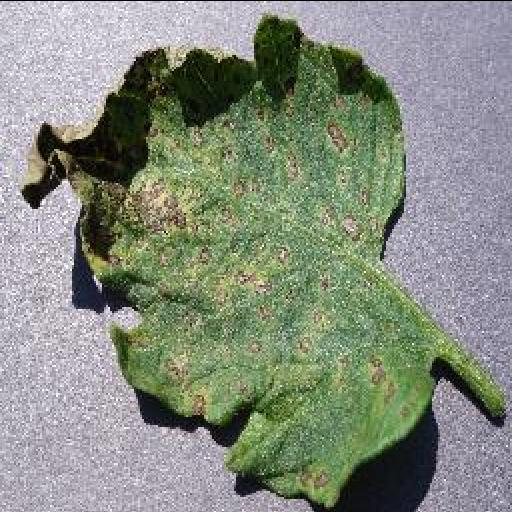disease_tomato: (18, 16, 438, 501)
